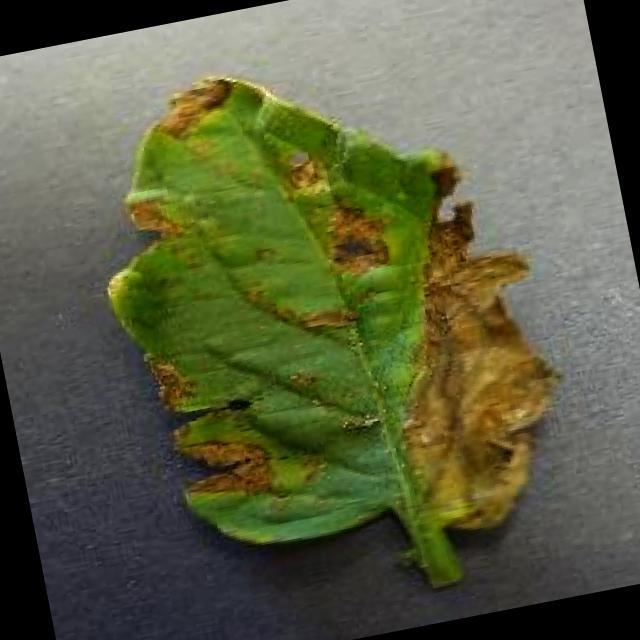Tomato bacterial spot leaf: (64, 15, 590, 599)
